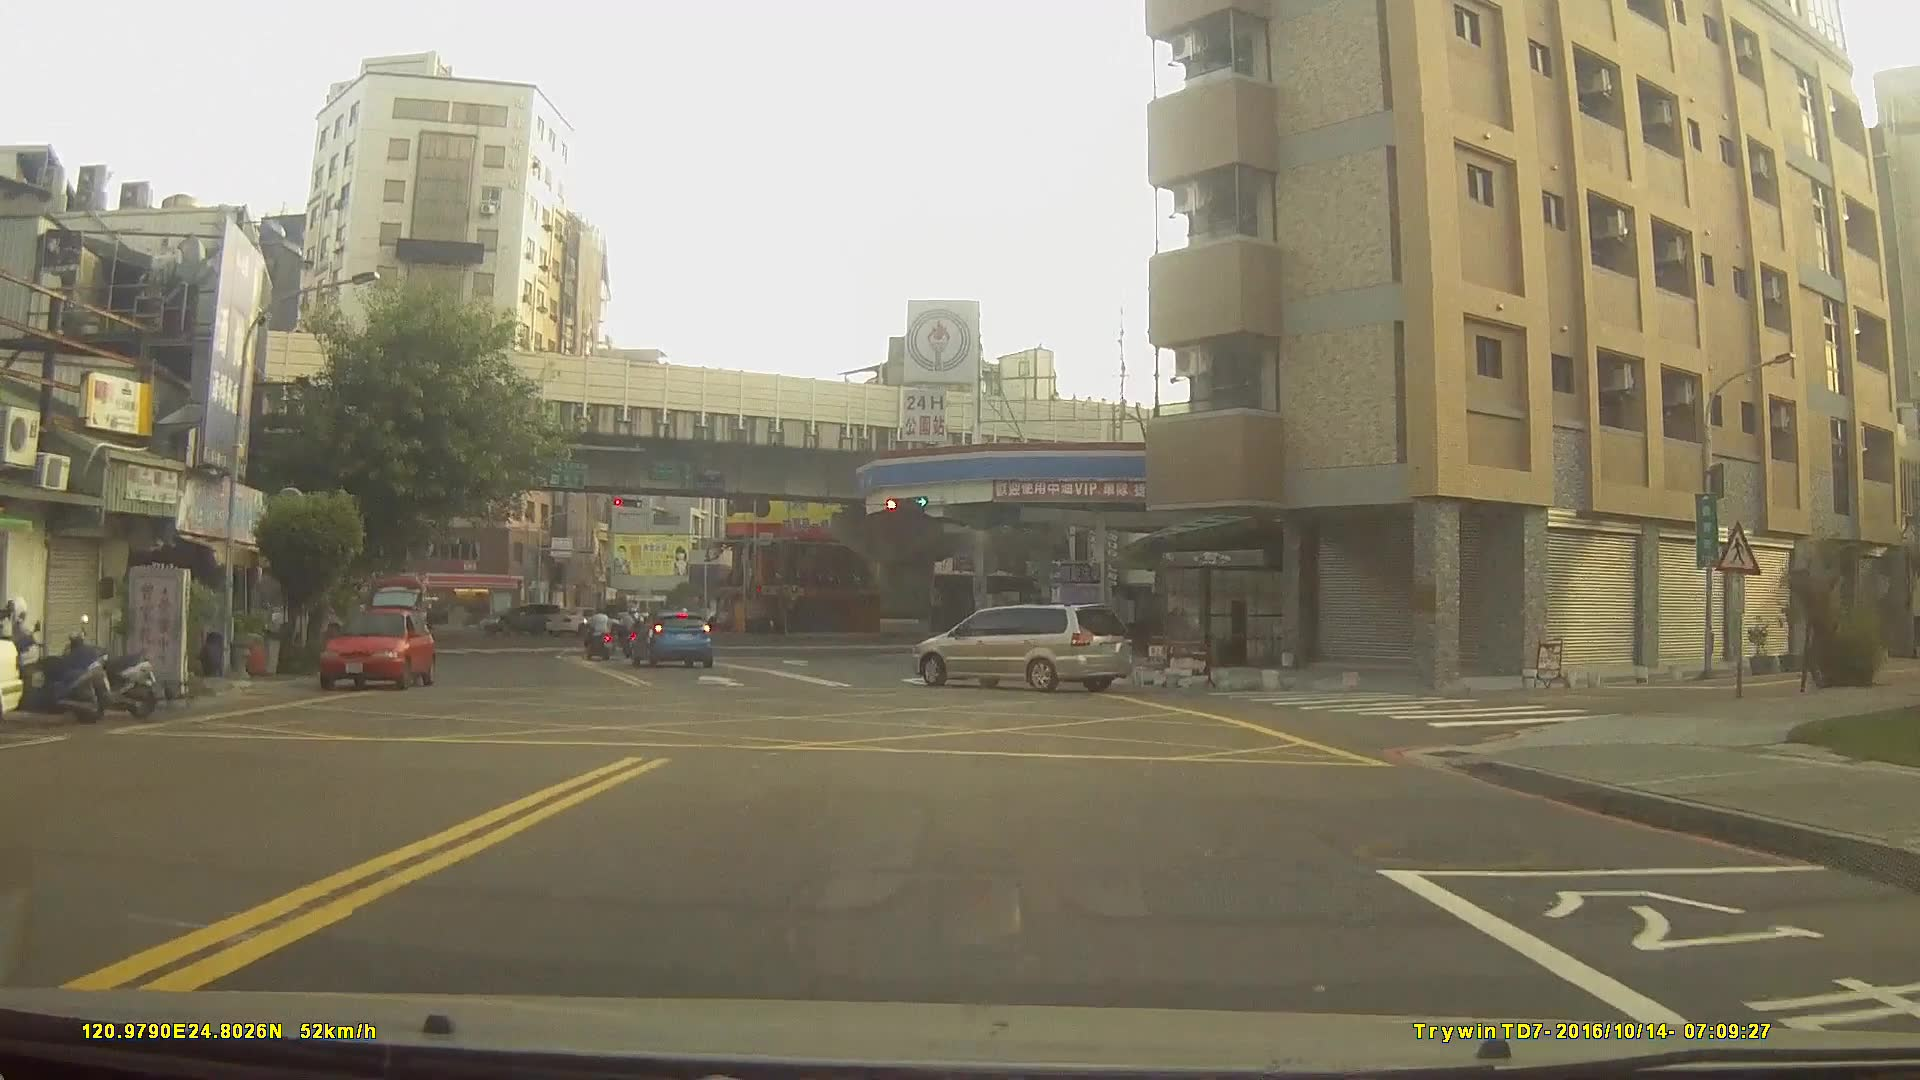rider: (584, 609, 616, 664)
vehicle: (910, 601, 1132, 691), (315, 605, 437, 691), (623, 611, 712, 670), (477, 603, 560, 637), (543, 605, 620, 636)
